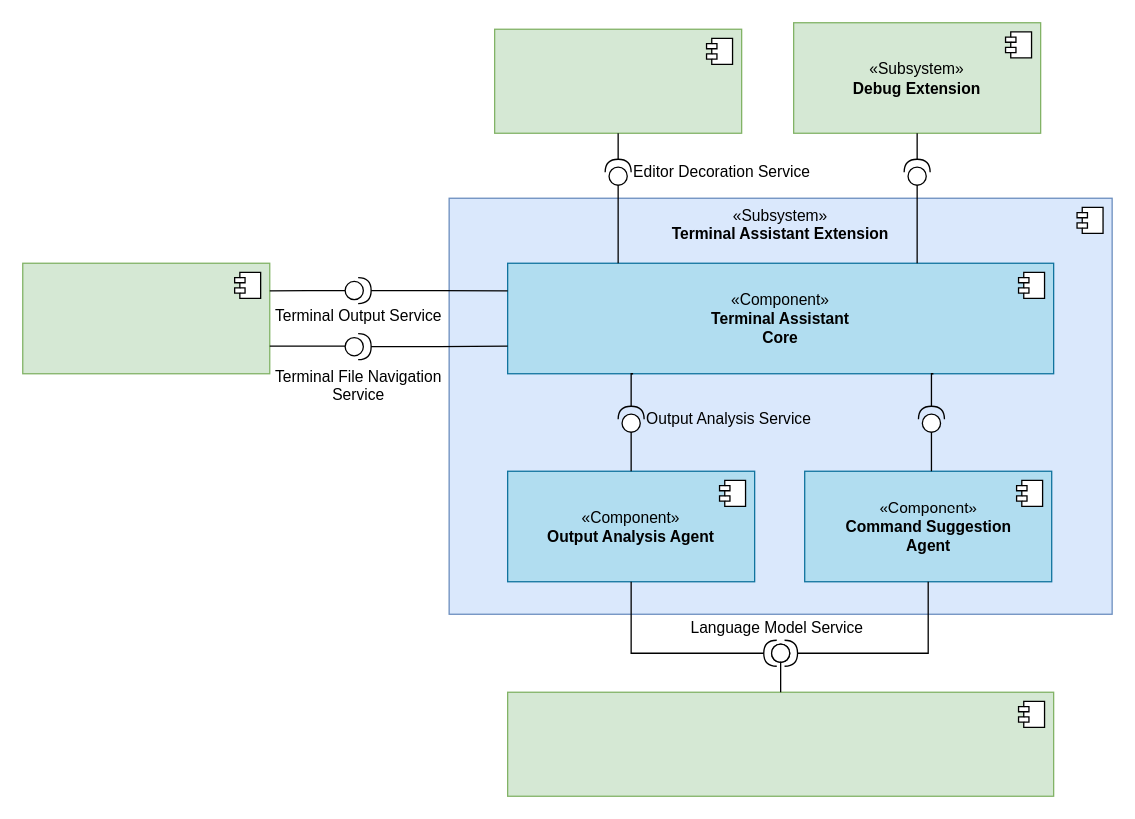
Image size: 1135x819. Some labels were removed from this diagram. The box of each missing label's shape, as (x1, y1, x2, y2) in pixels:
Build Context Service: (903, 158, 930, 185)
Command Suggestion Service: (917, 405, 944, 432)
«Subsystem» AI Core: (506, 691, 1054, 796)
«Subsystem» Monaco Extension: (493, 28, 742, 133)
«Subsystem» Terminal Extension: (21, 262, 270, 374)
